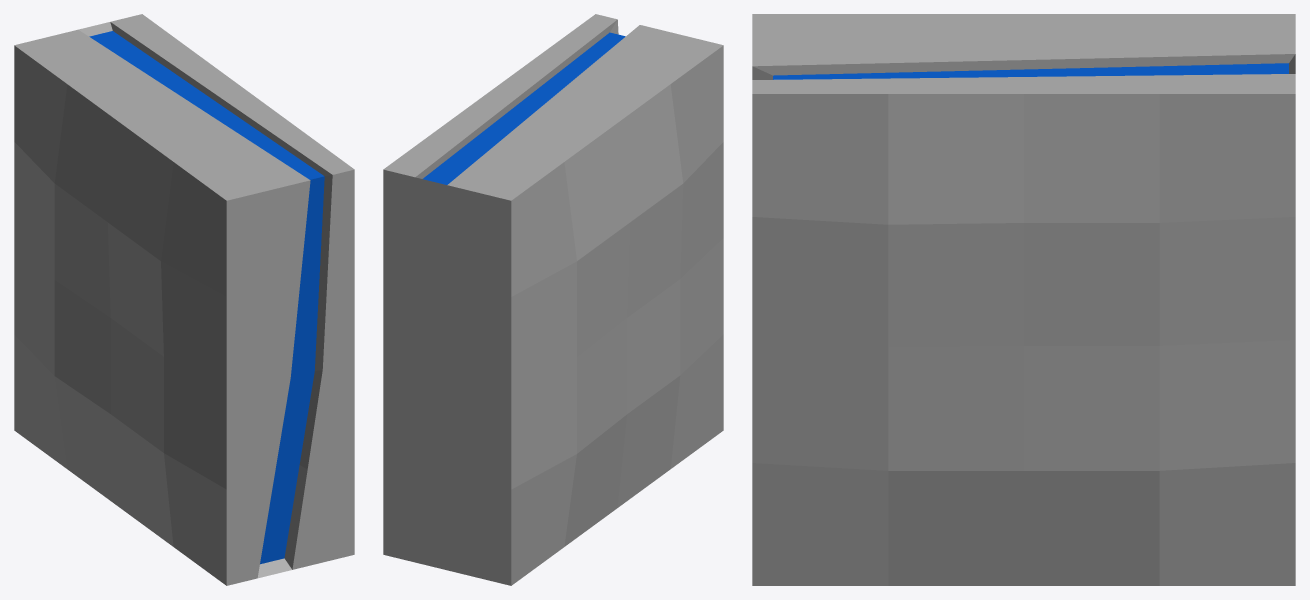
The model's file is Bedroom_Prop_Console.fbx.
3 renders of one model, left to right at view 1: azimuth 30°, elevation 25°; view 2: azimuth 150°, elevation 25°; view 3: azimuth 270°, elevation 25°, orthographic. The views are drawn at different scales.
Visible parts, largest first — view 1: Cube.007; view 2: Cube.007; view 3: Cube.007.
Part boxes in pixels (bbox=[...]): Cube.007: bbox=[14, 14, 354, 585]; Cube.007: bbox=[383, 14, 723, 585]; Cube.007: bbox=[752, 14, 1295, 585].
Bounding box in the file's own units: 66.55 × 160 × 160.
